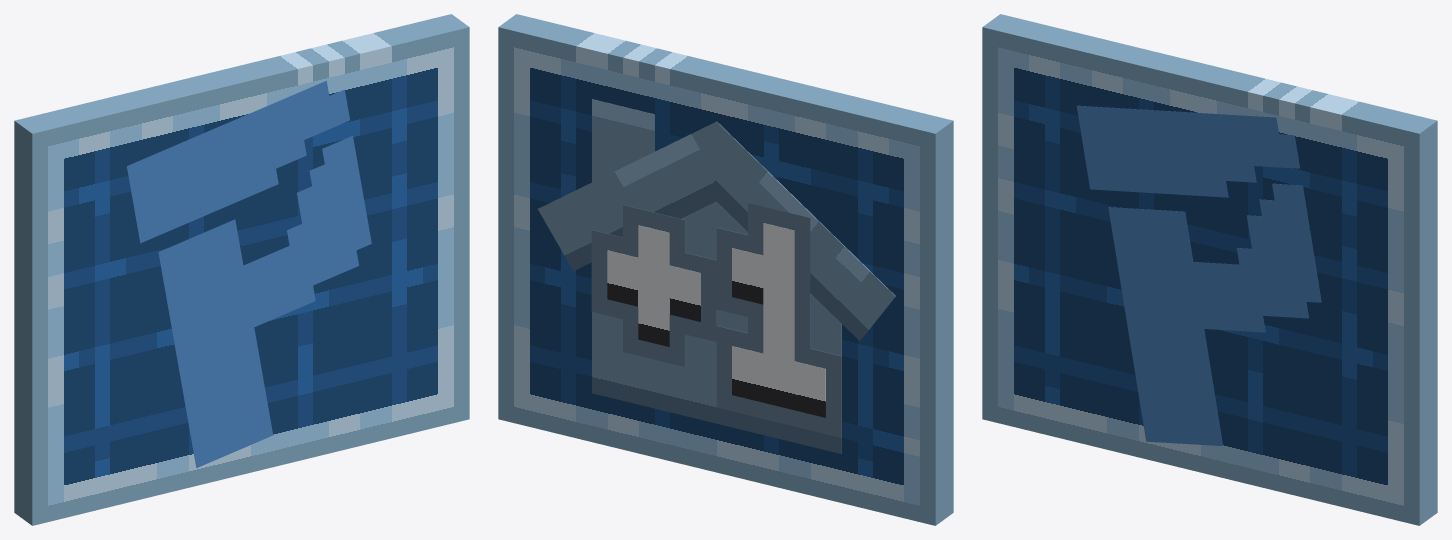
3 renders of one model, left to right at view 1: azimuth 30°, elevation 25°; view 2: azimuth 150°, elevation 25°; view 3: azimuth 330°, elevation 25°, orthographic.
Parts seen in each view (by area): view 1: plan-Local, backp-Local; view 2: plan-Local, icon_border-Local, house_body-Local, icon-Local, house_roof_1-Local, house_roof_2-Local; view 3: plan-Local, backp-Local.
Part boxes in pixels (x1,y1,x2,y2): plan-Local: (14,14,469,525); backp-Local: (126,80,371,467); plan-Local: (498,14,953,525); icon_border-Local: (591,203,841,437); house_body-Local: (592,99,841,453); icon-Local: (607,223,825,417); house_roof_1-Local: (538,122,723,271); house_roof_2-Local: (699,121,895,340); plan-Local: (982,14,1437,525); backp-Local: (1076,105,1321,446).
Bounding box in the file's own units: 28 × 24 × 2.06.
Materials: 7 (7 with a texture image).
